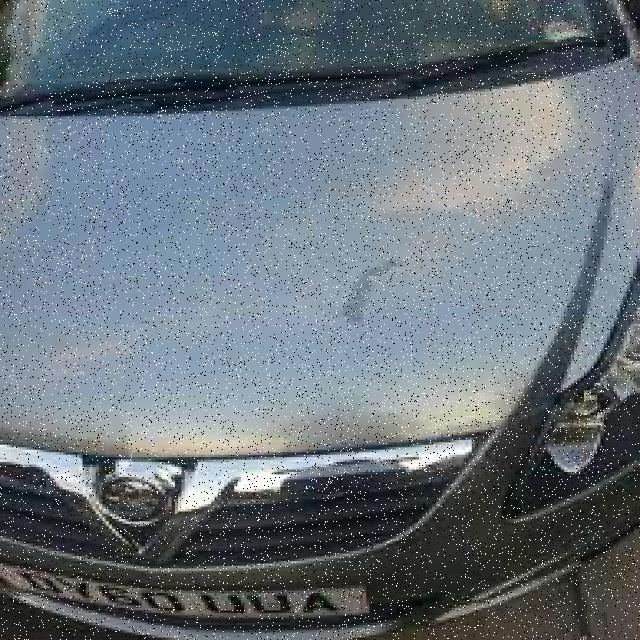bonnet-dent: (0, 93, 634, 495)
